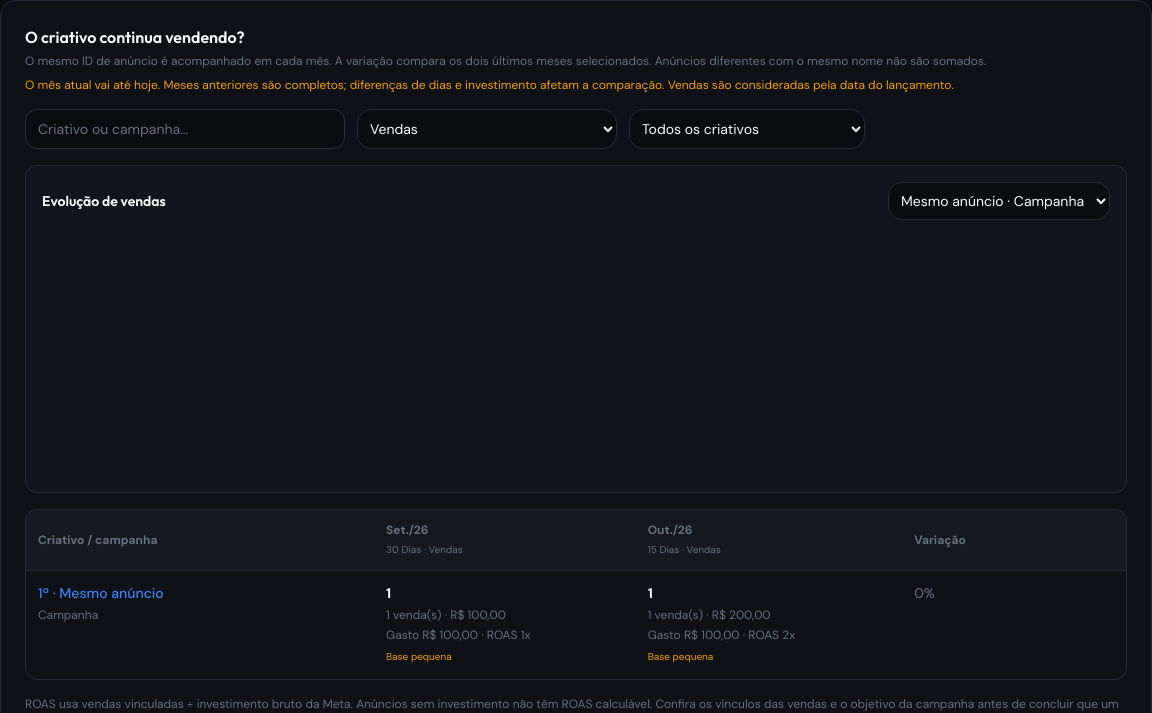
Test case: shows monthly values separately and recomputes the comparison metric
The width and height of the screenshot is (1152, 713).
Select "Valor vendido" in the dropdown named "Métrica do comparativo": (487, 129) [357,109,617,149]
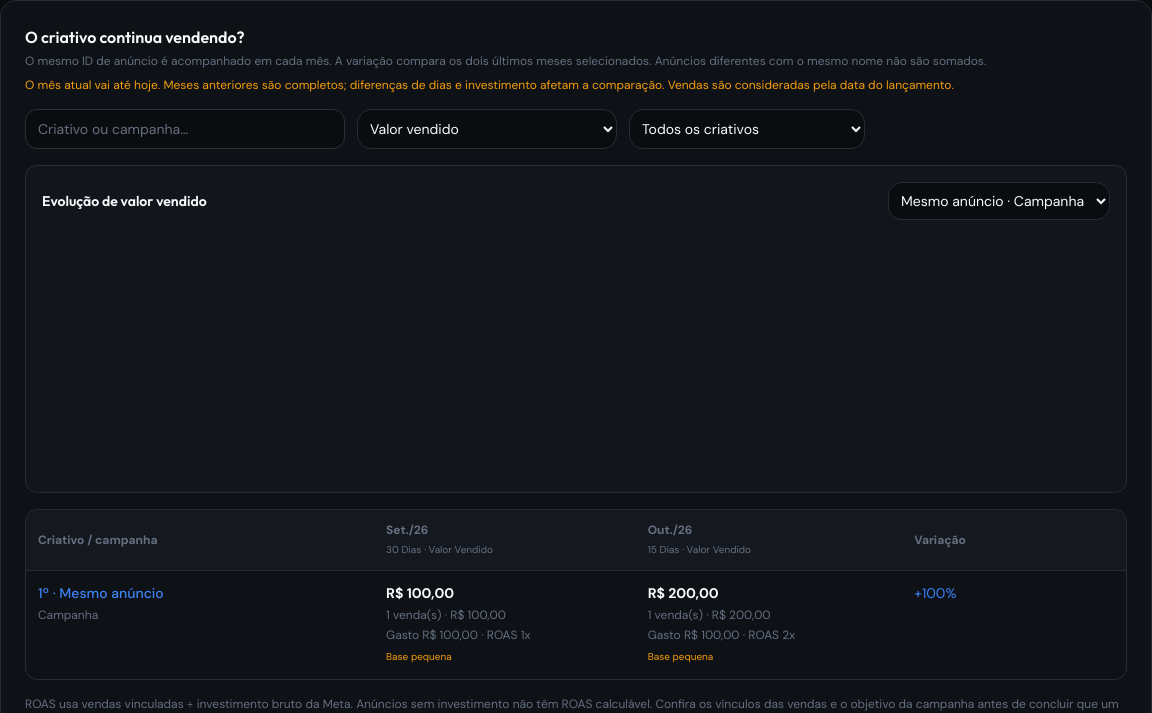
Now the text "+100%" is shown, box [914,584,956,602]
Select "Indicador diminuiu" in the dropdown named "Filtrar evolução": (747, 129) [629,109,865,149]
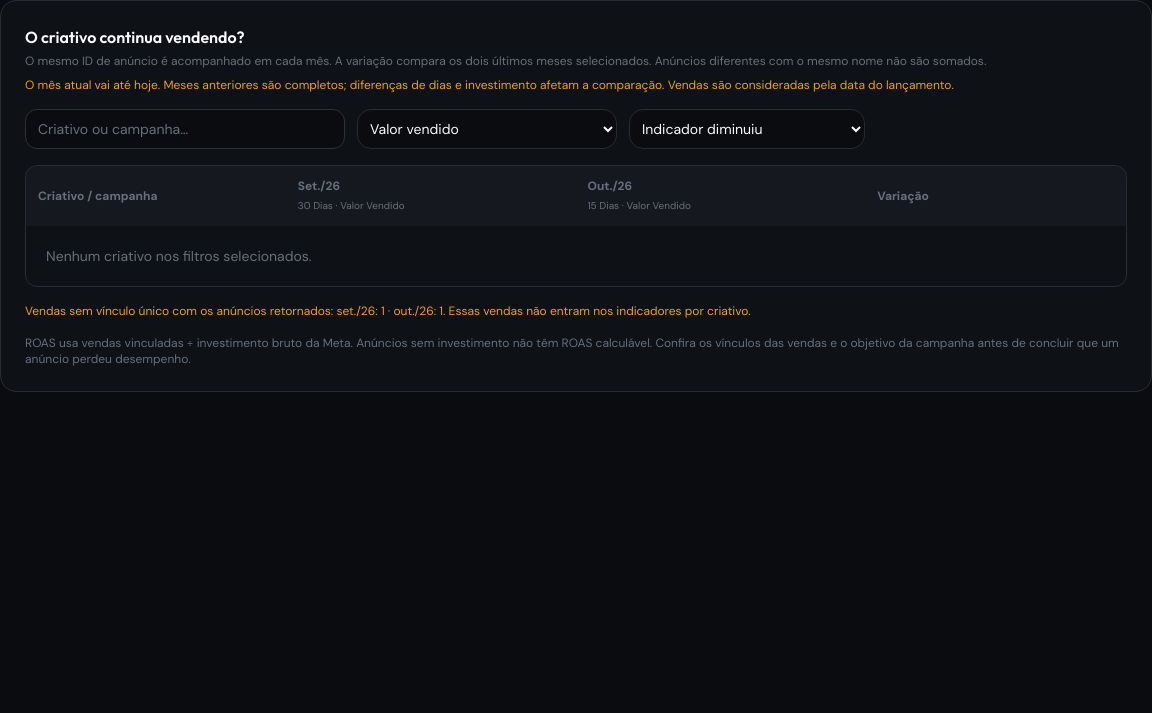
Now the text "Nenhum criativo nos filtros selecionados." is shown, box [46,247,312,265]
